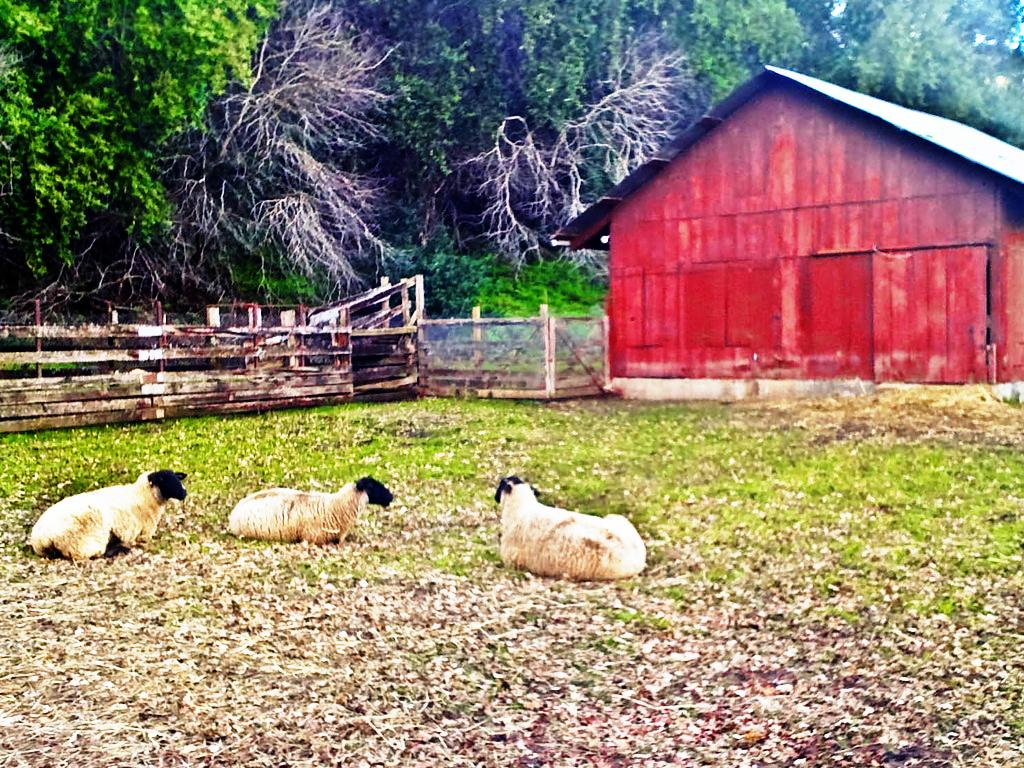Sheep: (498, 478, 646, 581), (26, 470, 188, 562), (228, 475, 394, 544)
